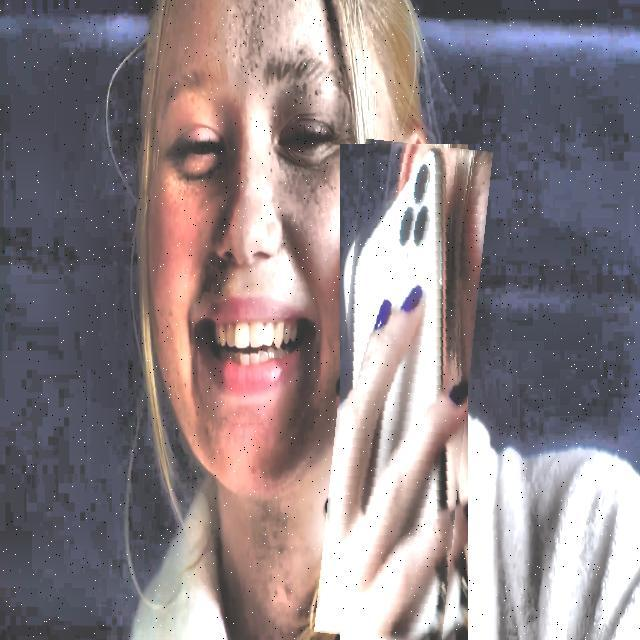Phone: (327, 141, 480, 640)
